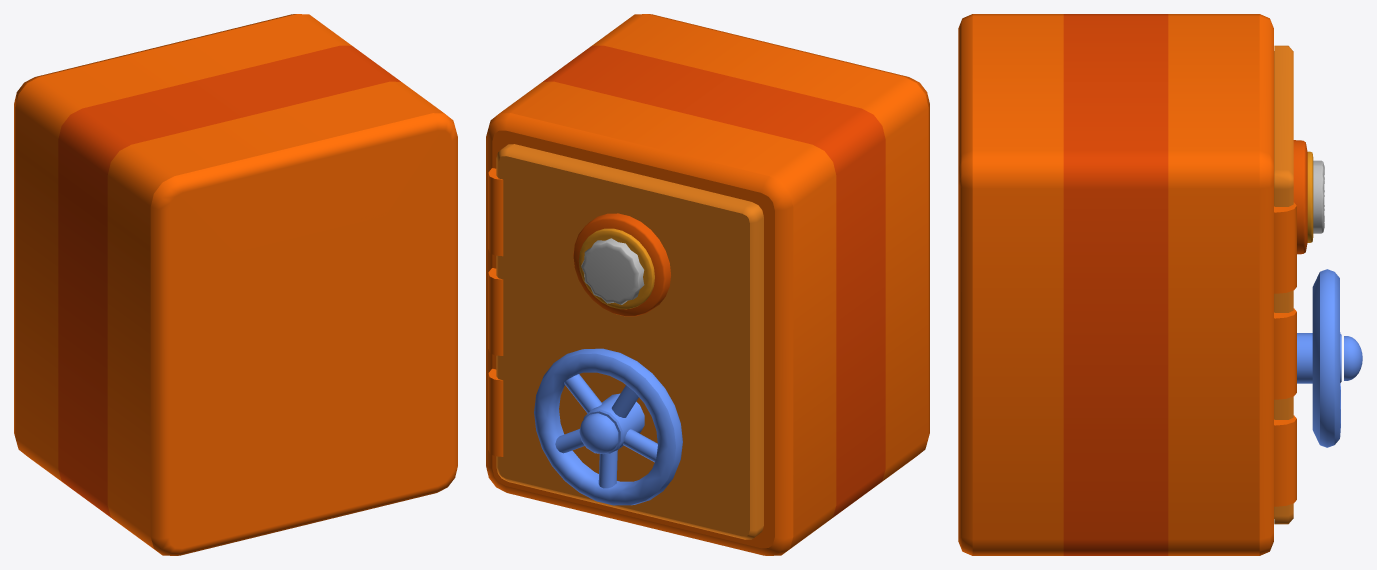
The model's file is Large_Safe_01.fbx.
3 renders of one model, left to right at view 1: azimuth 30°, elevation 25°; view 2: azimuth 150°, elevation 25°; view 3: azimuth 270°, elevation 25°, orthographic. The views are drawn at different scales.
Visible parts, largest first — view 1: Large_Safe_Base; view 2: Large_Safe_Base, Large_Safe_Door, Large_Safe_Valve, Large_Safe_Lock; view 3: Large_Safe_Base, Large_Safe_Door, Large_Safe_Valve, Large_Safe_Lock.
Boxes of the visible parts, left/top/right/bottom form: Large_Safe_Base: left=14, top=14, right=457, bottom=555; Large_Safe_Base: left=486, top=14, right=929, bottom=555; Large_Safe_Door: left=488, top=144, right=763, bottom=539; Large_Safe_Valve: left=534, top=348, right=682, bottom=505; Large_Safe_Lock: left=581, top=238, right=644, bottom=304; Large_Safe_Base: left=958, top=14, right=1273, bottom=555; Large_Safe_Door: left=1274, top=45, right=1362, bottom=524; Large_Safe_Valve: left=1312, top=269, right=1340, bottom=447; Large_Safe_Lock: left=1313, top=160, right=1324, bottom=233.
Size of the model in its own units: 61.96 by 73.52 by 66.89.
